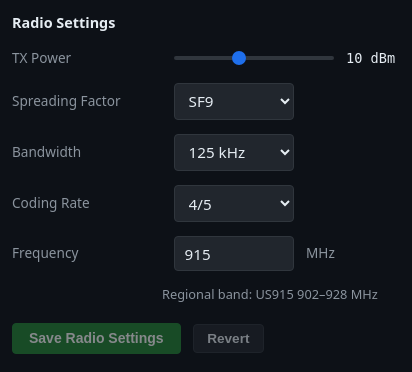
Test: RadioForm dirty state and revert behavior › saves dirty form and clears dirty state against new persisted values
Replace the text in the number field named "frequency in mhz" with "917.2" at (234, 254), box top-left (174, 236), bottom-right (294, 271)
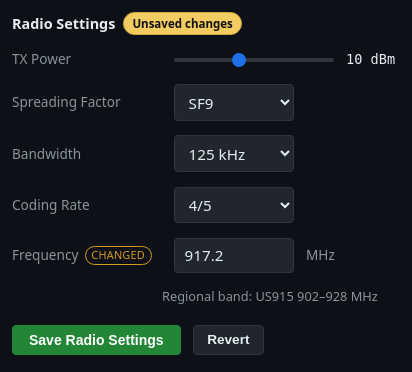
Click the button "Save Radio Settings".
click(96, 340)  # box top-left (12, 324), bottom-right (181, 355)
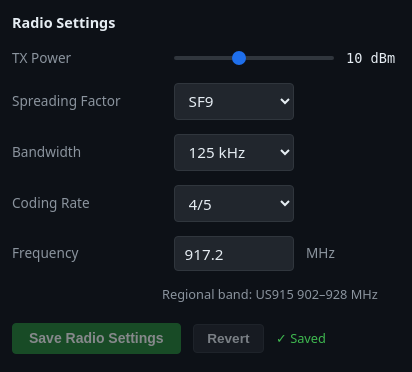
Now the text "Unsaved changes" is gone
Now the button "Save Radio Settings" is disabled, box top-left (12, 323), bottom-right (181, 354)
Now the button "Revert" is disabled, box top-left (193, 324), bottom-right (264, 353)
